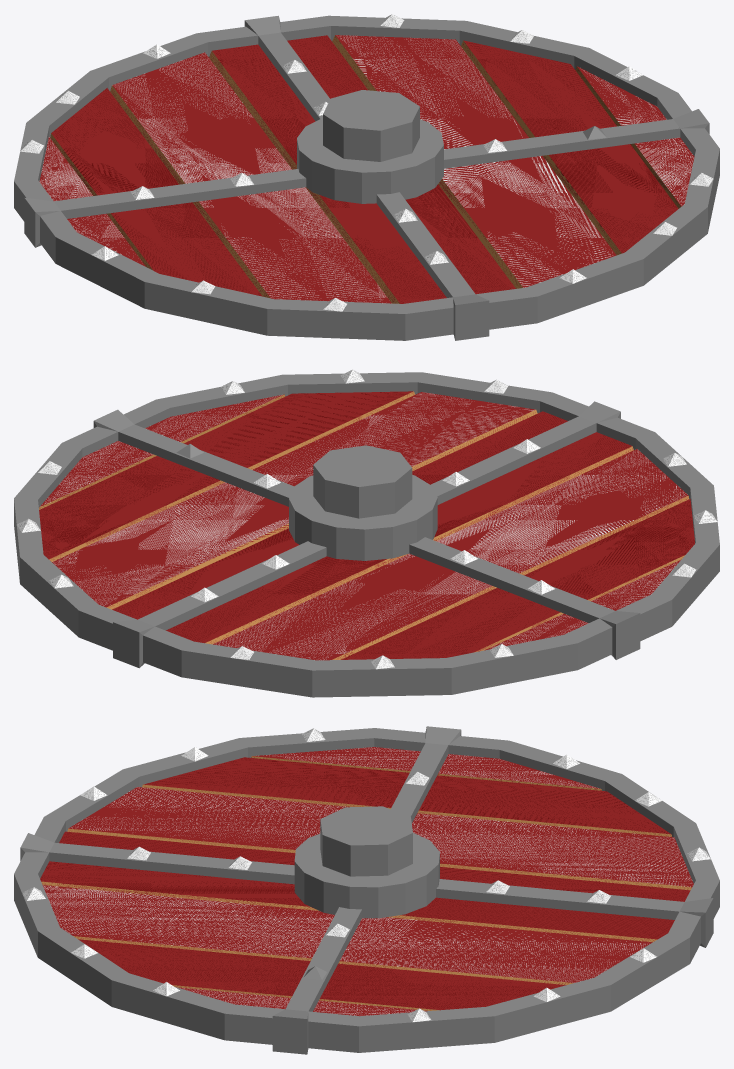
Rendered from Shield.fbx.
The picture shows the model from 3 angles, top to bottom: view 1: azimuth 30°, elevation 25°; view 2: azimuth 150°, elevation 25°; view 3: azimuth 270°, elevation 25°; orthographic projection.
Parts seen in each view (by area): view 1: Group3, Group4, Group11, Group5, Group9, Group10, Group2, Group7, Group6, Group8; view 2: Group3, Group4, Group11, Group5, Group10, Group9, Group6, Group7, Group2, Group8; view 3: Group3, Group4, Group10, Group5, Group9, Group11, Group8, Group6, Group7.
Boxes of the visible parts, left/top/right/bottom form: Group3: left=39, top=35, right=694, bottom=303; Group4: left=14, top=15, right=719, bottom=340; Group11: left=54, top=119, right=680, bottom=218; Group5: left=297, top=118, right=443, bottom=203; Group9: left=323, top=90, right=419, bottom=161; Group10: left=258, top=32, right=475, bottom=297; Group2: left=453, top=294, right=489, bottom=340; Group7: left=24, top=197, right=60, bottom=247; Group6: left=244, top=15, right=280, bottom=35; Group8: left=673, top=109, right=709, bottom=134; Group3: left=39, top=391, right=694, bottom=660; Group4: left=14, top=372, right=719, bottom=697; Group11: left=118, top=424, right=614, bottom=622; Group5: left=289, top=475, right=437, bottom=560; Group10: left=138, top=416, right=596, bottom=630; Group9: left=313, top=445, right=412, bottom=518; Group6: left=113, top=619, right=154, bottom=668; Group7: left=600, top=611, right=640, bottom=659; Group2: left=579, top=401, right=620, bottom=422; Group8: left=93, top=409, right=134, bottom=431; Group3: left=40, top=747, right=693, bottom=1016; Group4: left=14, top=728, right=719, bottom=1052; Group10: left=49, top=842, right=684, bottom=919; Group5: left=294, top=832, right=439, bottom=918; Group9: left=320, top=806, right=412, bottom=876; Group11: left=286, top=743, right=448, bottom=1011; Group8: left=272, top=1009, right=308, bottom=1054; Group6: left=679, top=898, right=713, bottom=947; Group7: left=425, top=726, right=461, bottom=744.
Size of the model in its own units: 720 by 95 by 720.
